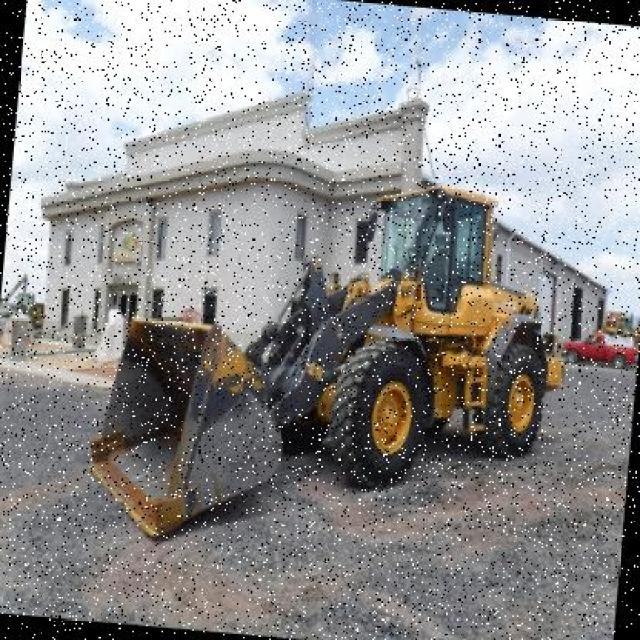buldozerpayloadergrader: (73, 141, 582, 581)
